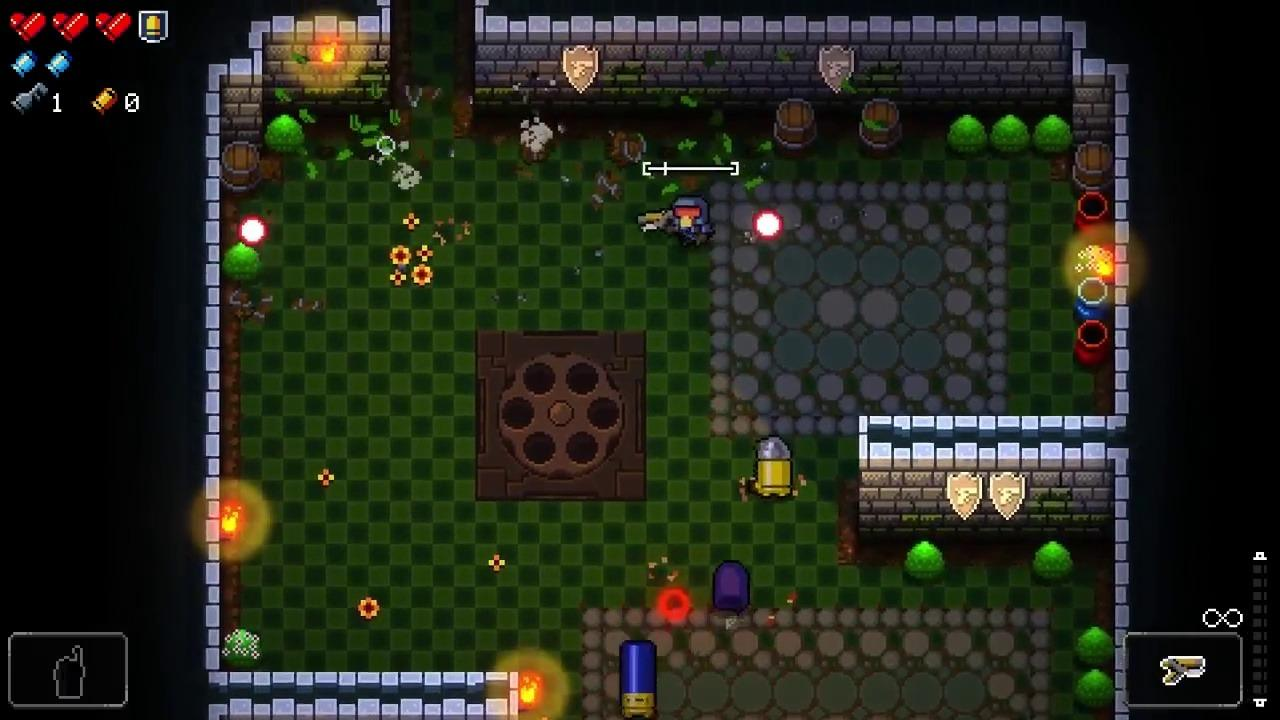blue_shotgun_kin: (618, 639, 658, 720)
bullet: (239, 216, 267, 247), (754, 211, 782, 241)
bullet_kin: (754, 436, 794, 500)
player: (672, 195, 712, 250)
rubber_kin: (712, 560, 751, 615)
teleporter: (474, 329, 648, 504)
